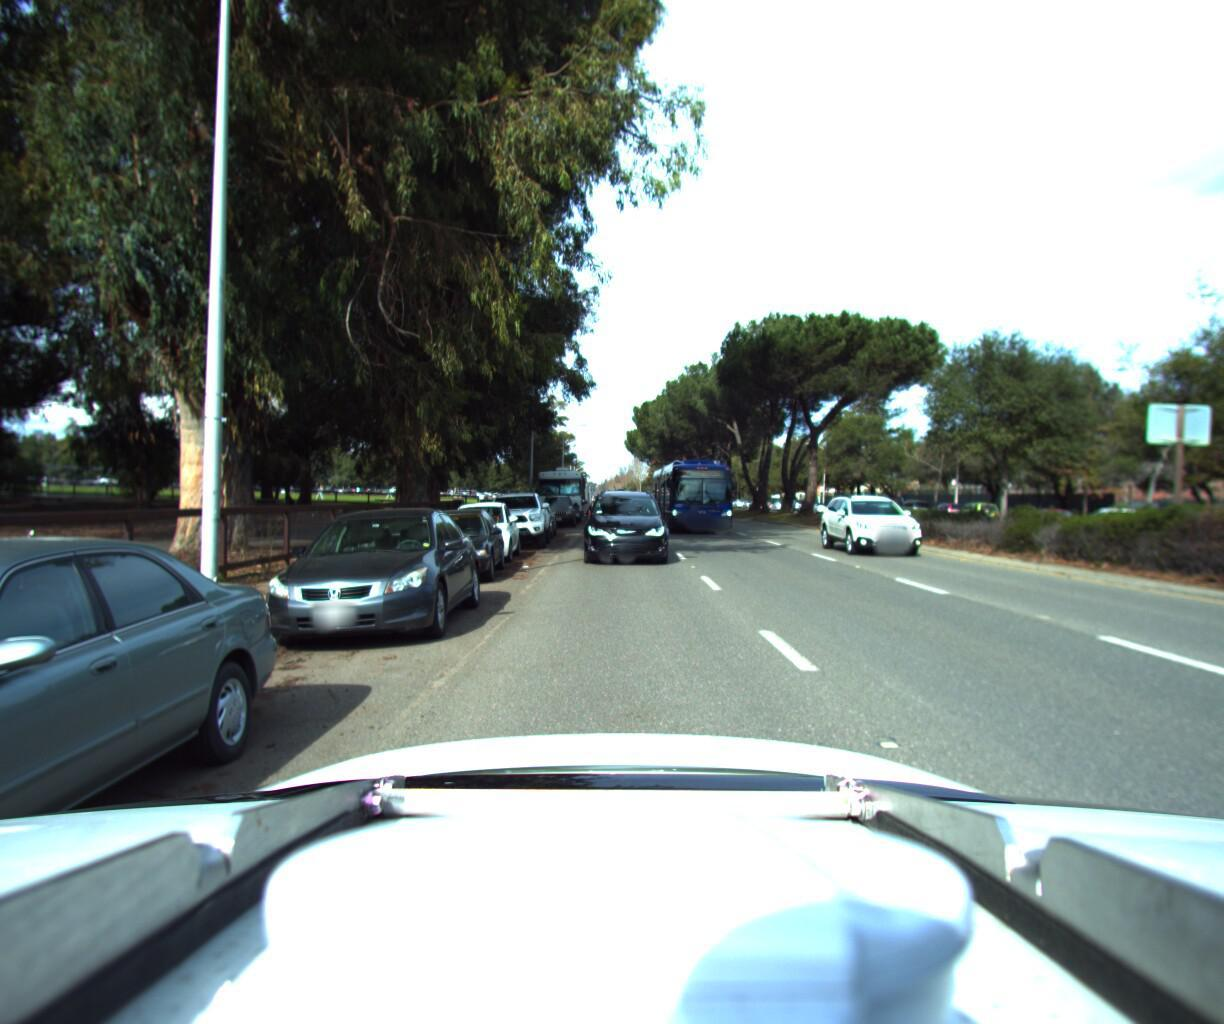bus: (650, 453, 743, 536)
car: (0, 521, 308, 1024), (244, 499, 489, 663), (394, 499, 507, 586), (822, 483, 953, 554), (578, 477, 668, 561), (440, 494, 521, 560), (479, 483, 552, 547), (504, 493, 557, 536), (539, 487, 575, 522)
other_vehicle: (528, 458, 585, 520), (553, 462, 590, 510), (562, 473, 594, 506)
